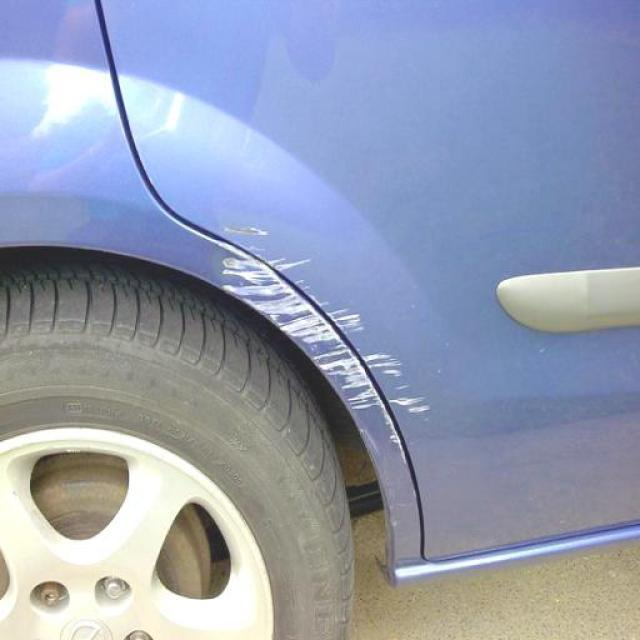car damage: (219, 223, 431, 446)
